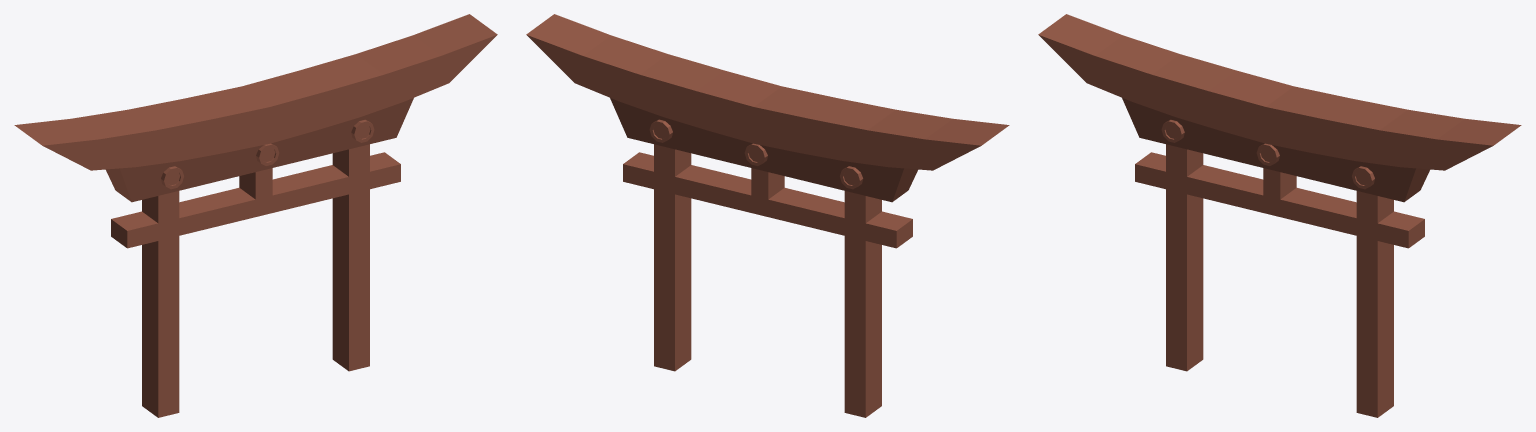
The model's file is torii.fbx.
3 views of the same model, side by side, from view 1: azimuth 30°, elevation 25°; view 2: azimuth 150°, elevation 25°; view 3: azimuth 330°, elevation 25° (orthographic).
Parts seen in each view (by area): view 1: pCube1; view 2: pCube1; view 3: pCube1.
Boxes of the visible parts, bbox=[...] form: pCube1: bbox=[14, 14, 497, 417]; pCube1: bbox=[526, 14, 1009, 417]; pCube1: bbox=[1038, 14, 1521, 417].
Bounding box in the file's own units: 10.04 × 6.45 × 1.08.
